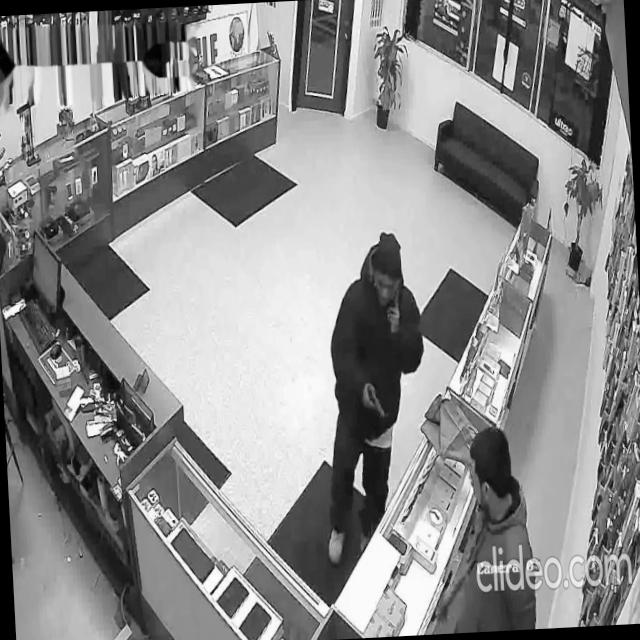gun: (366, 382, 386, 422)
person: (426, 422, 539, 634)
person with a gun: (310, 228, 436, 568)
